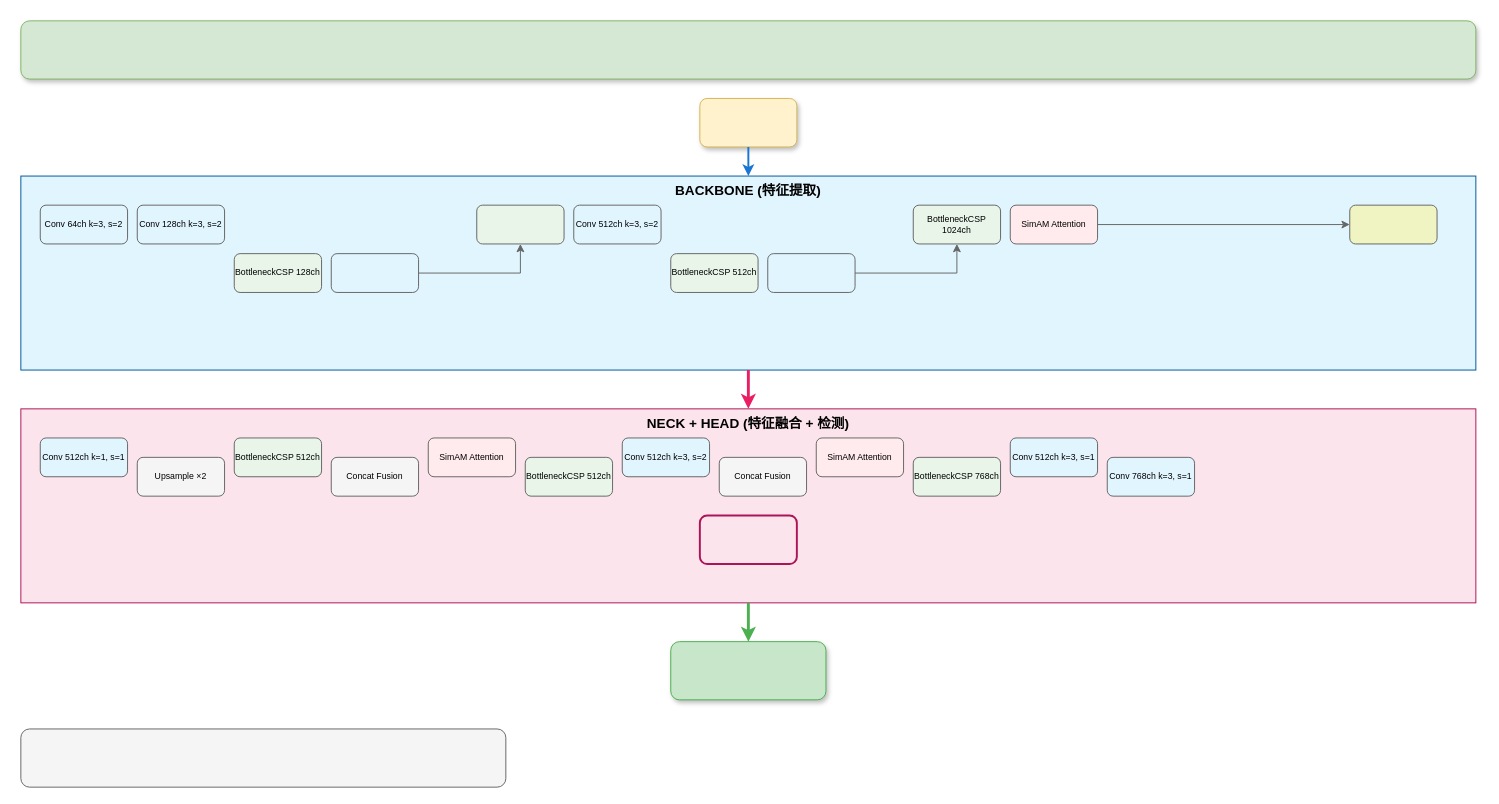
This 1499x804 diagram has some shape labels left out. The shapes that lost their labels are listed below. From the top down, each one's centre as x and y in pixels, then its label:
At (749,51): "YOLOv4-SimAM CSP backbone + SimAM注意力机制 + IDetect检测头".
At (749,124): "Input Image 640×640×3".
At (520,224): "BottleneckCSP 256ch".
At (1393,224): "SPPF 1024ch".
At (374,272): "Conv 256ch k=3, s=2".
At (811,272): "Conv 1024ch k=3, s=2".
At (747,539): "IDetect Classes: nc".
At (749,672): "Detection Results Bounding Boxes + Confidence Scores".
At (263,757): "模块图例 ■ 标准卷积 ■ RepVGG ■ CSP ■ RCS-OSA ■ 注意力".
